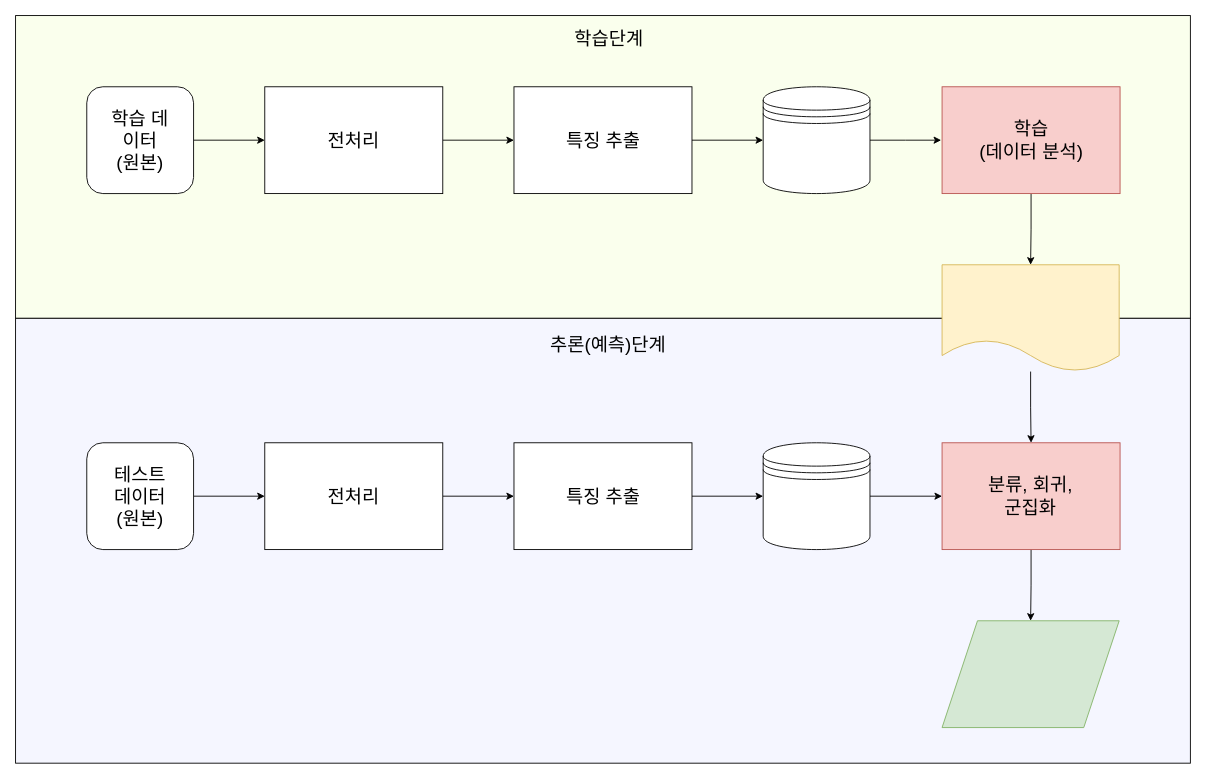
The diagram is 1206 pixels wide and 779 high, and some of its shapes have lost their labels. Here are the shapes that lost their labels. From the top down, the box of each, then its label:
(762, 86, 870, 194): 학습 데이터
(941, 264, 1119, 372): 결정 함수
(762, 442, 870, 550): 테스트 데이터
(941, 620, 1119, 728): 판단 결과
